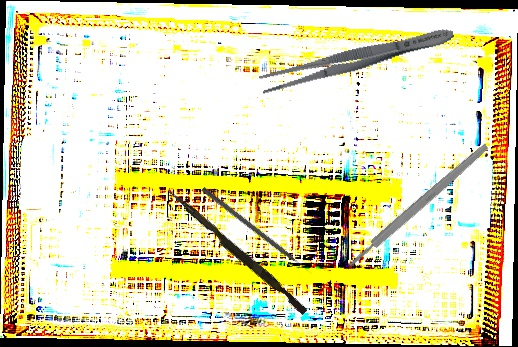Dressing Forceps: (257, 21, 457, 98)
Hook Surgical: (200, 186, 314, 277)
Pusher: (163, 188, 311, 316)
Scalpel Handle: (345, 141, 491, 270)
